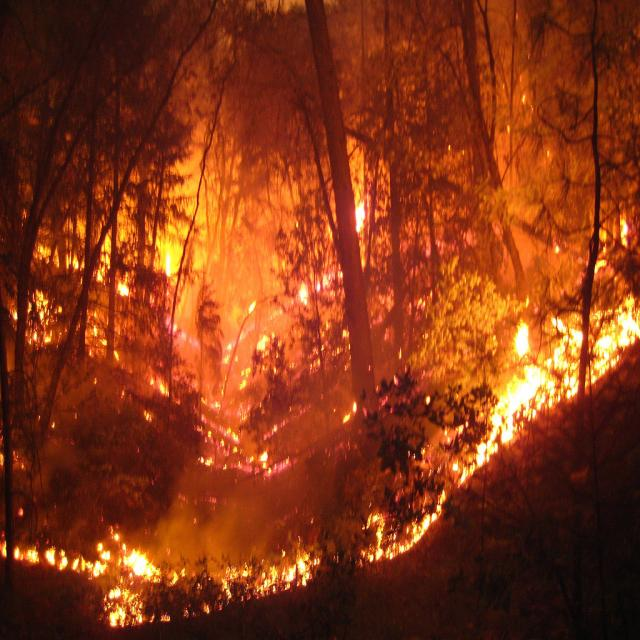Fire: (9, 188, 640, 631)
